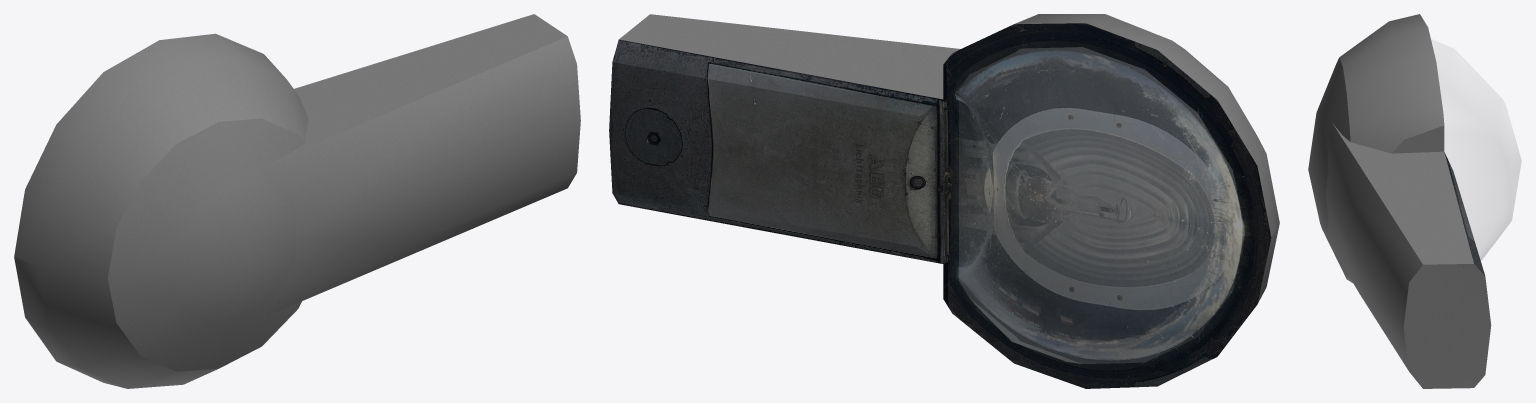
Rendered from Stradasole_400.obj.
3 views of the same model, side by side, from view 1: azimuth 30°, elevation 25°; view 2: azimuth 150°, elevation 25°; view 3: azimuth 270°, elevation 25° (orthographic). The views are drawn at different scales.
Parts seen in each view (by area): view 1: Stradasole_400; view 2: Stradasole_400; view 3: Stradasole_400.
Part boxes in pixels (x1,y1,x2,y2): Stradasole_400: [14, 14, 580, 388]; Stradasole_400: [609, 14, 1279, 388]; Stradasole_400: [1308, 14, 1521, 388].
Bounding box in the file's own units: 0.723 × 0.413 × 0.2897.
3 materials, 2 textured.
